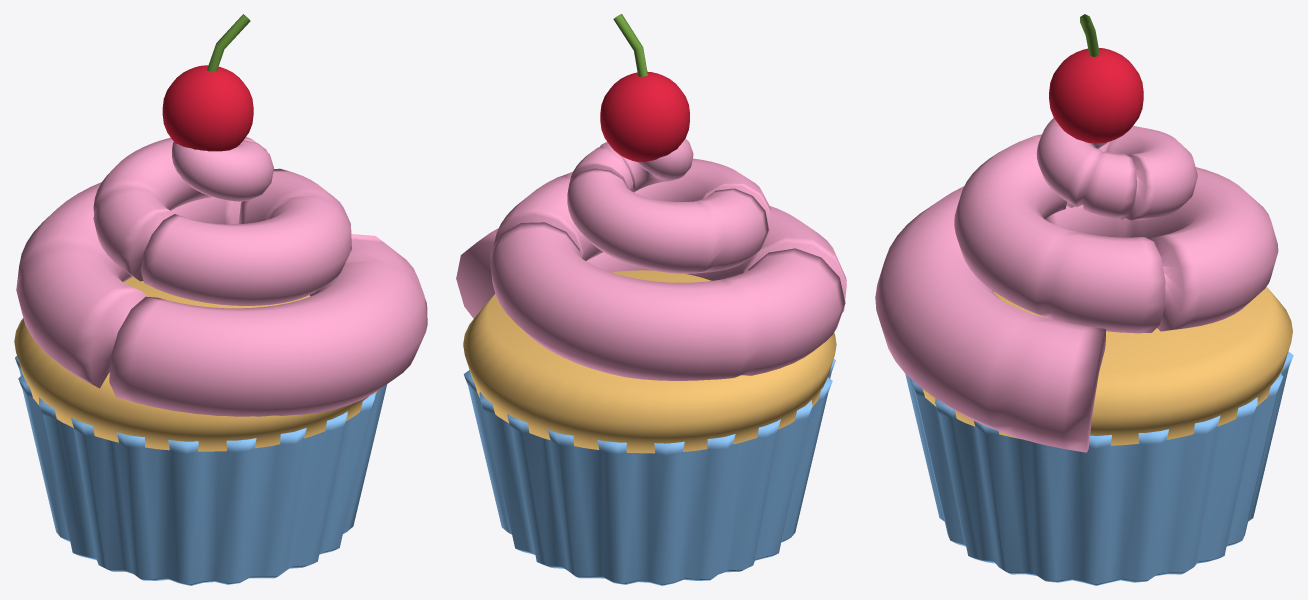
Rendered from CakeCupcake.obj.
3 renders of one model, left to right at view 1: azimuth 30°, elevation 25°; view 2: azimuth 150°, elevation 25°; view 3: azimuth 270°, elevation 25°, orthographic. The views are drawn at different scales.
Visible parts, largest first — view 1: Frosting, Wrapper, Sponge, Cherry, Stem; view 2: Frosting, Wrapper, Sponge, Cherry, Stem; view 3: Frosting, Wrapper, Sponge, Cherry.
Boxes of the visible parts, x1,y1,x2,y2 form: Frosting: (16, 137, 427, 416); Wrapper: (15, 356, 387, 585); Sponge: (14, 277, 377, 451); Cherry: (162, 65, 253, 151); Stem: (207, 14, 250, 72); Frosting: (456, 138, 846, 380); Wrapper: (463, 359, 835, 585); Sponge: (463, 270, 836, 453); Cherry: (600, 71, 689, 162); Stem: (613, 14, 647, 76); Frosting: (875, 118, 1278, 452); Wrapper: (905, 352, 1293, 585); Sponge: (923, 286, 1292, 445); Cherry: (1049, 48, 1143, 143).
Bounding box in the file's own units: 3.86 × 5.09 × 3.66.
